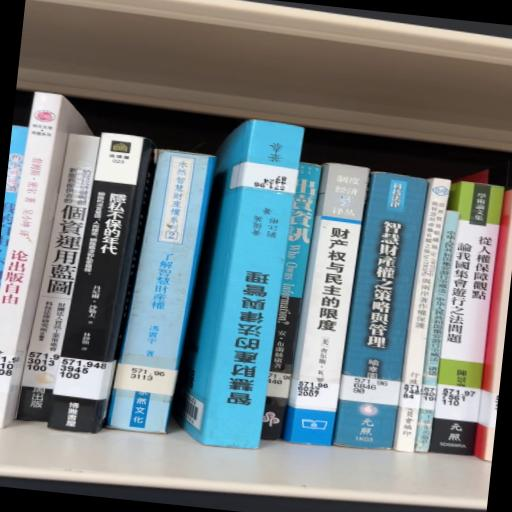reverse: (173, 121, 305, 449)
